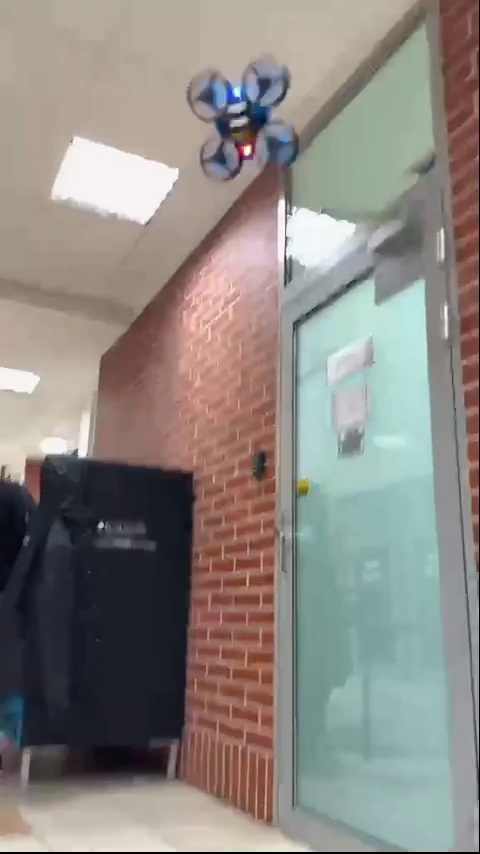drone: (186, 60, 298, 180)
